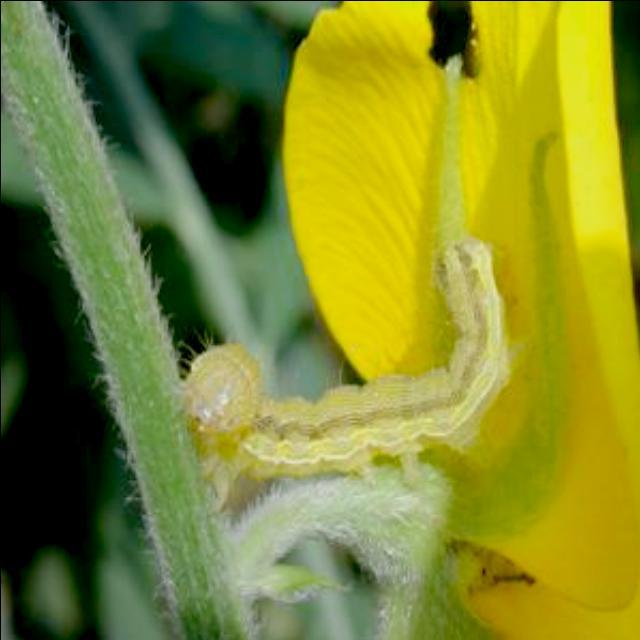Cotton bollworm: (166, 216, 532, 494)
